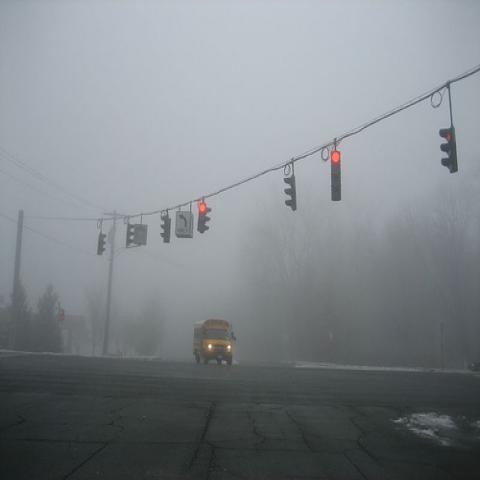bus: (192, 319, 238, 366)
